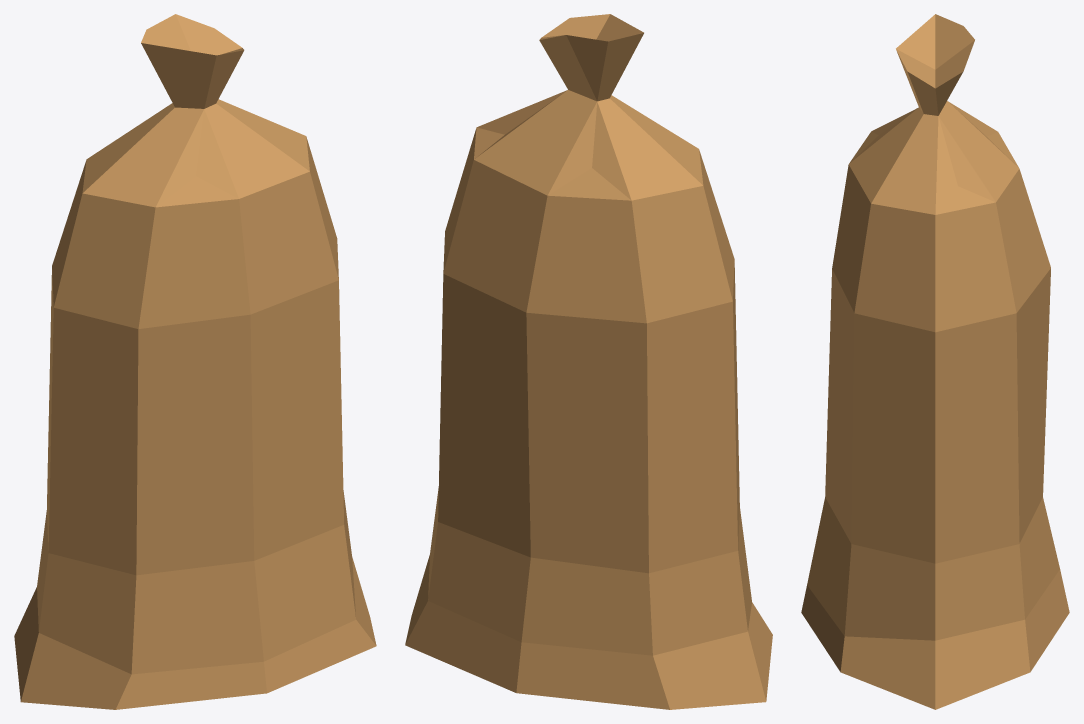
The model's file is ww2_sandbag.fbx.
3 views of the same model, side by side, from view 1: azimuth 30°, elevation 25°; view 2: azimuth 150°, elevation 25°; view 3: azimuth 270°, elevation 25° (orthographic). The views are drawn at different scales.
Parts seen in each view (by area): view 1: ww2_sandbag; view 2: ww2_sandbag; view 3: ww2_sandbag.
Boxes of the visible parts, x1=… form: ww2_sandbag: x1=14, y1=14, x2=376, y2=709; ww2_sandbag: x1=405, y1=14, x2=772, y2=709; ww2_sandbag: x1=801, y1=14, x2=1069, y2=709.
Size of the model in its own units: 115 by 200 by 81.75.
